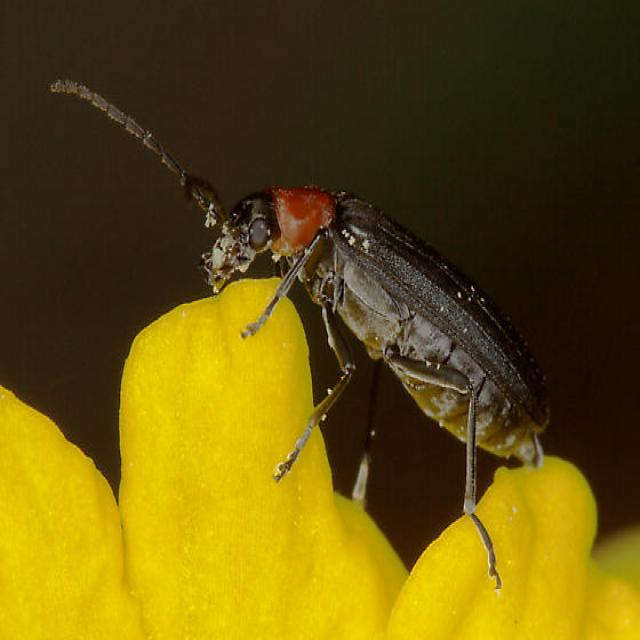pollen_beetle: (36, 55, 556, 591)
